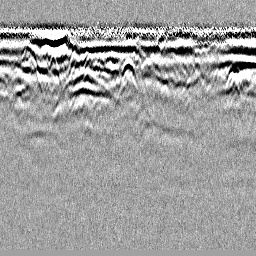cavity: (119, 56, 139, 87)
